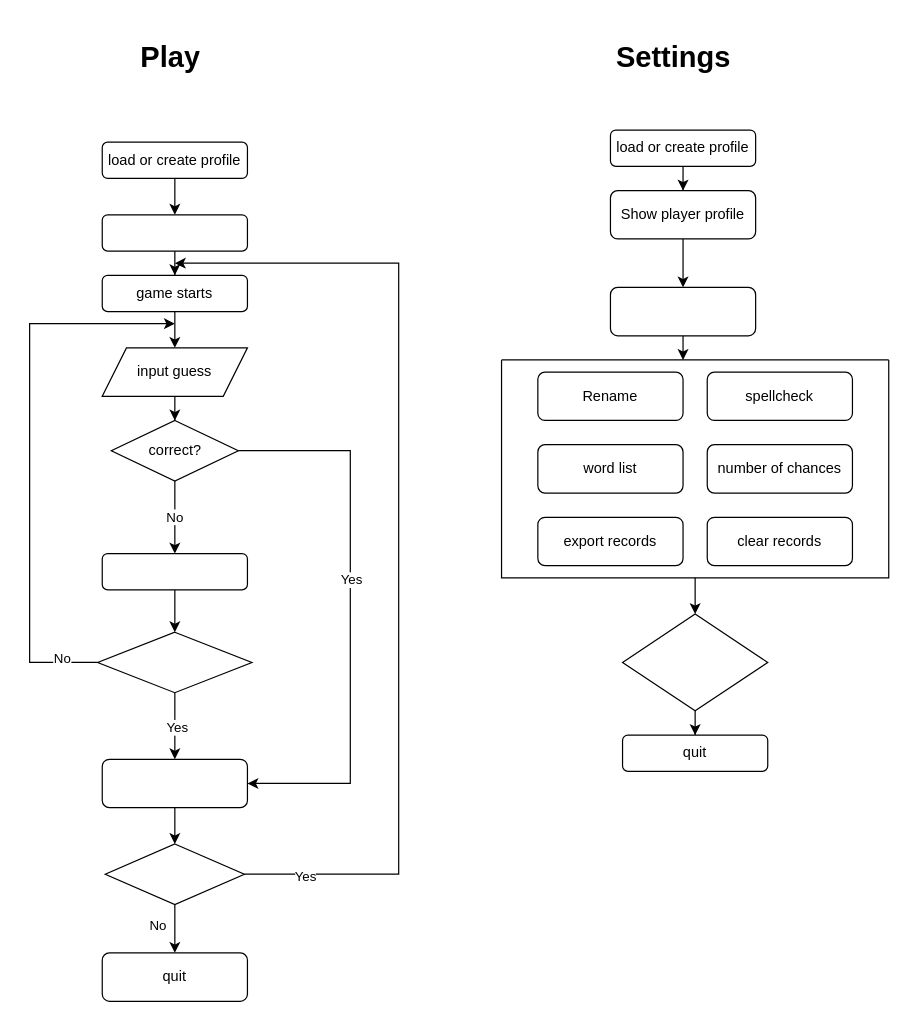
The diagram is 910 pixels wide and 1022 high, and some of its shapes have lost their labels. The box of each missing label's shape, as (x1, y1, x2, y2) in pixels:
ending message: (101, 758, 247, 808)
out of chances?: (96, 631, 252, 693)
restart?: (104, 843, 244, 904)
save changes: (621, 613, 768, 711)
show hints: (101, 552, 247, 590)
show options: (609, 286, 756, 336)
Welcome message: (101, 214, 247, 251)
